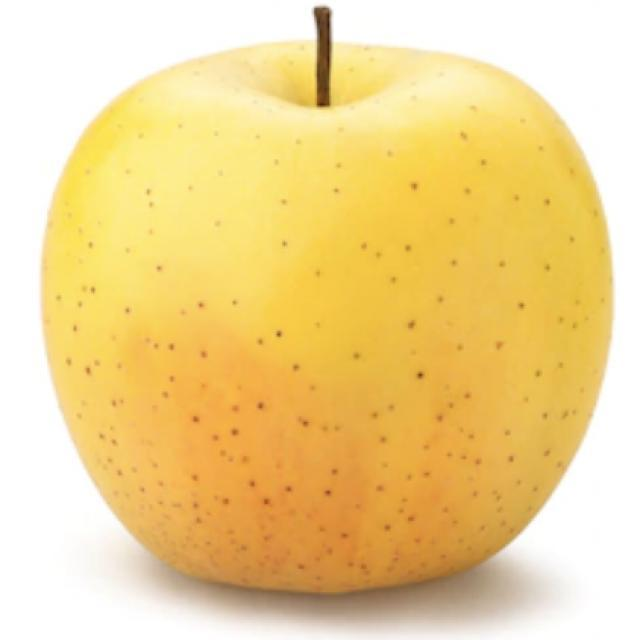Fresh Apple: (70, 65, 595, 578)
